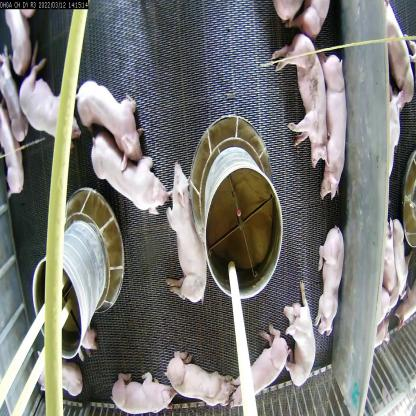Pig: (263, 21, 328, 175), (88, 122, 165, 226), (161, 164, 211, 310), (77, 70, 145, 162), (230, 324, 294, 415), (17, 53, 72, 154), (315, 57, 349, 198), (319, 226, 353, 342), (169, 348, 230, 406), (285, 274, 315, 387), (33, 350, 85, 412), (112, 368, 179, 415), (0, 57, 27, 132), (0, 105, 24, 184)
